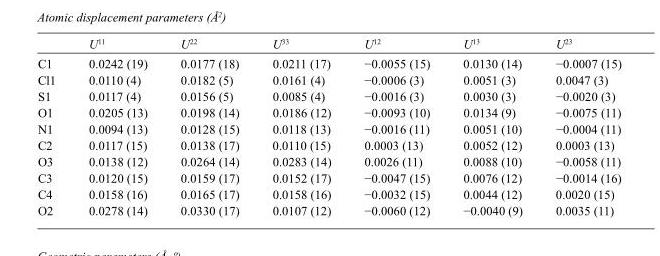table: (36, 36, 620, 217)
table column: (347, 36, 445, 217), (445, 36, 538, 217), (71, 36, 163, 217), (163, 36, 255, 217), (255, 36, 347, 217), (538, 36, 620, 217), (36, 36, 71, 217)
table column header: (36, 36, 620, 53)
table row: (36, 53, 620, 71), (36, 36, 620, 53), (36, 87, 620, 104), (36, 136, 620, 153), (36, 185, 620, 202), (36, 71, 620, 87), (36, 104, 620, 120), (36, 120, 620, 136), (36, 153, 620, 169), (36, 169, 620, 185), (36, 202, 620, 217)
